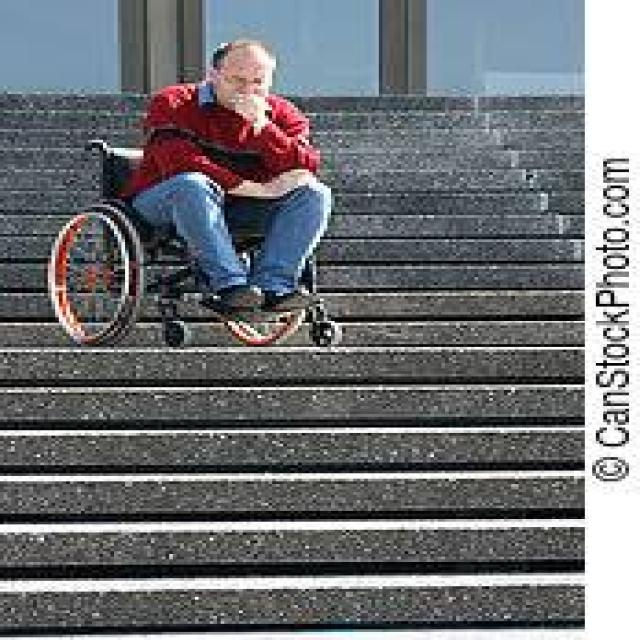wheelchairs: (33, 132, 368, 347)
